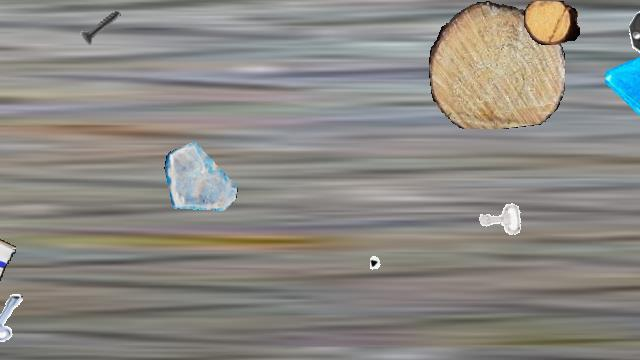glass: (164, 139, 238, 213), (605, 35, 640, 125)
metal: (370, 238, 432, 300), (75, 1, 127, 53), (473, 193, 525, 245), (0, 293, 30, 345), (625, 1, 640, 63)
plastic: (0, 211, 16, 335)
wood: (429, 1, 565, 129), (524, 1, 580, 45)
